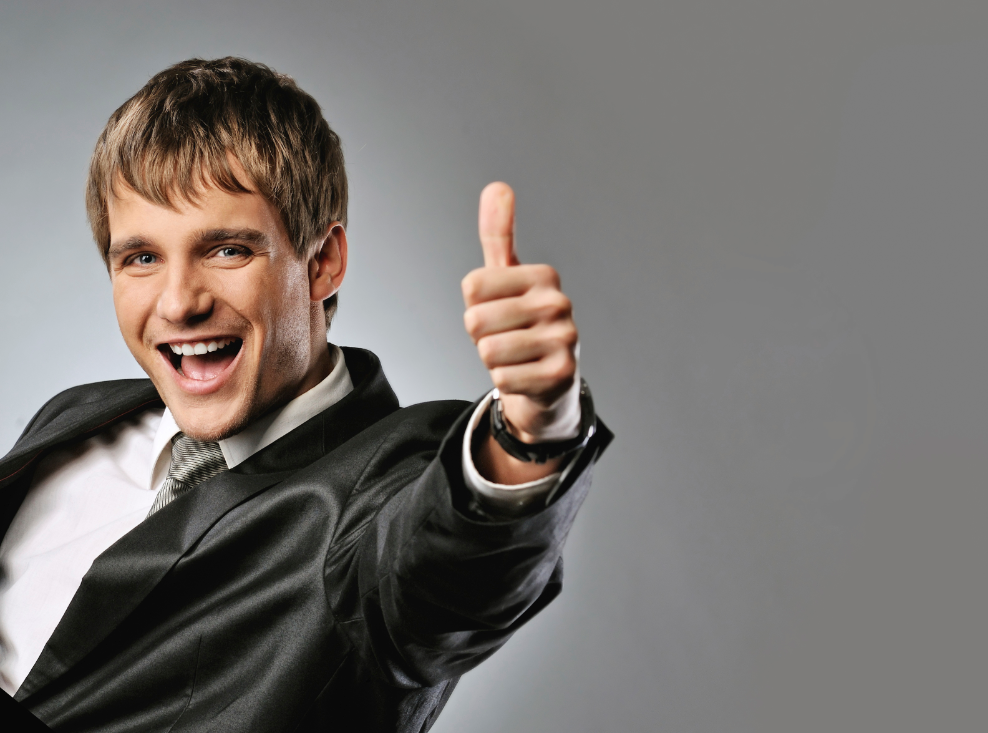human: (1, 42, 643, 733)
